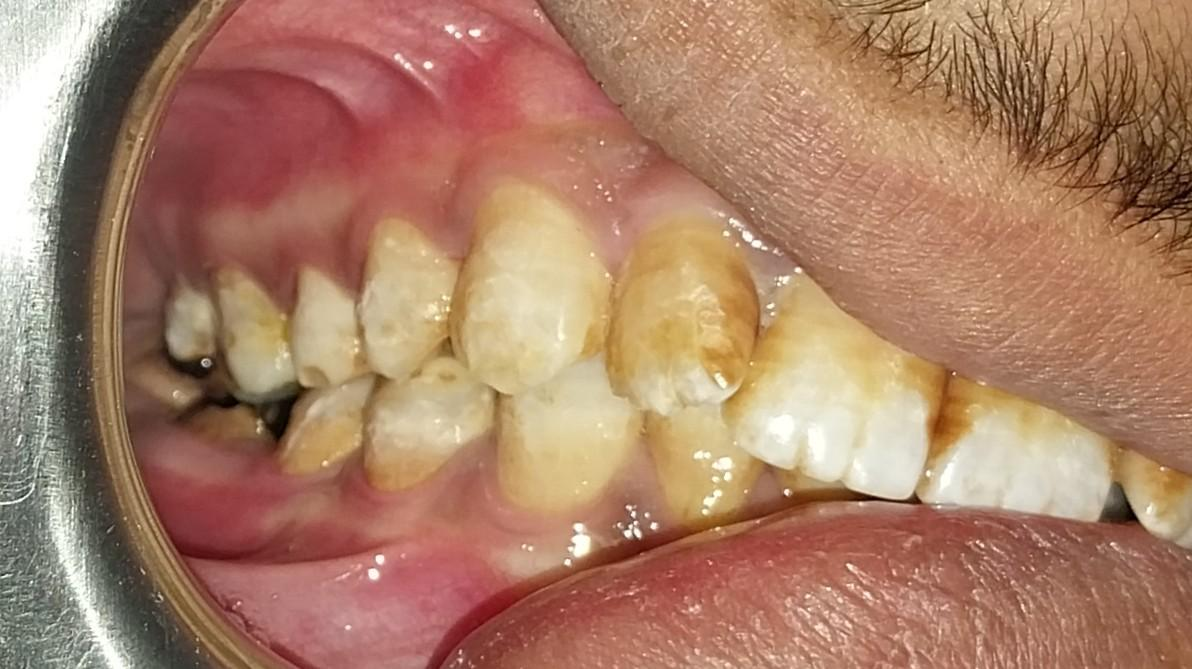D: (181, 384, 292, 462)
